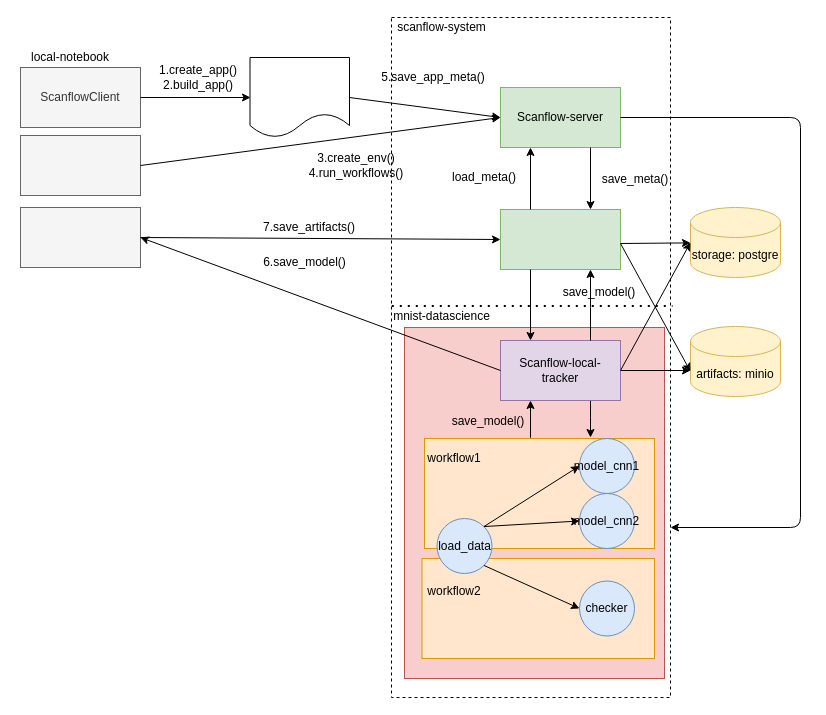
This 826x715 diagram has some shape labels left out. Each missing label, with the centre of its shape:
"app_metadata" belongs at (299,97).
"Scanflow-tracker" belongs at (560,239).
"ScanflowDeployerClient" belongs at (80,165).
"ScanflowTrackerClient" belongs at (80,237).
